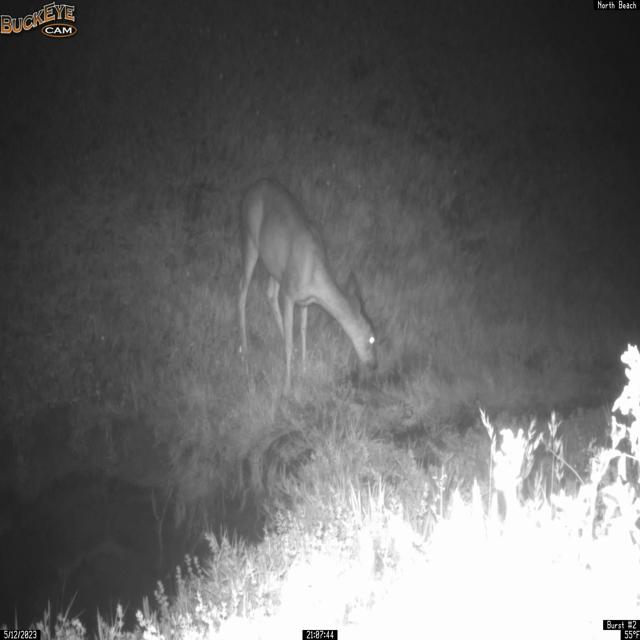deer: (237, 177, 379, 395)
